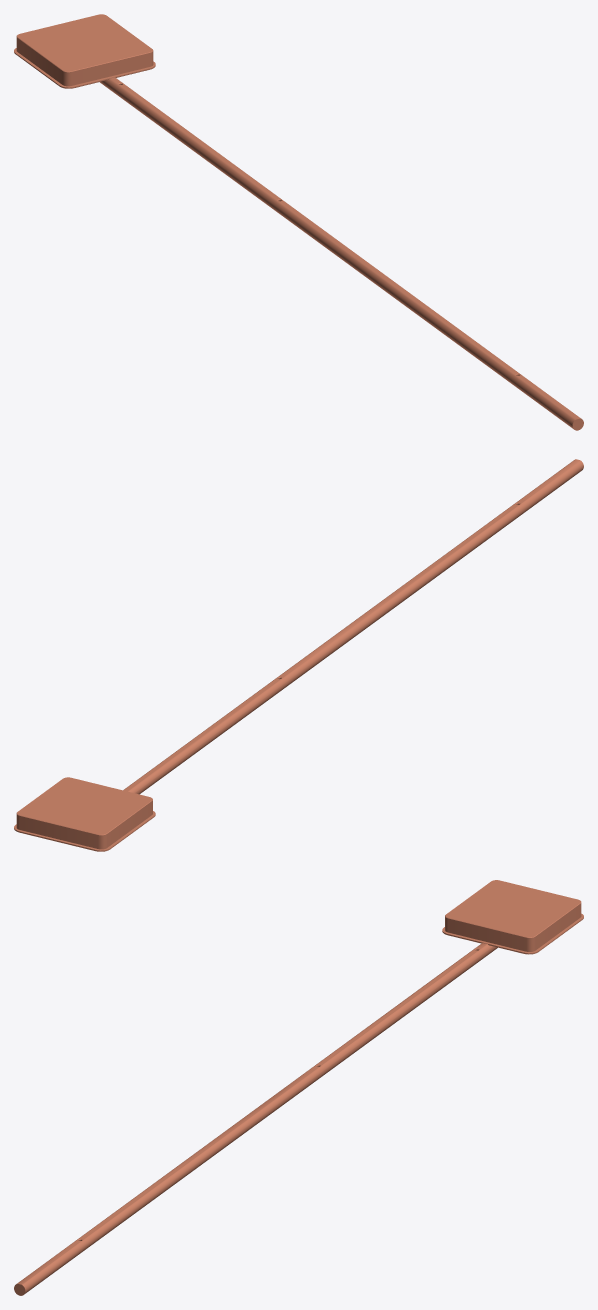
Rendered from matt r gold viora.glb.
3 renders of one model, top to bottom at view 1: azimuth 30°, elevation 25°; view 2: azimuth 150°, elevation 25°; view 3: azimuth 330°, elevation 25°, orthographic.
Parts seen in each view (by area): view 1: CB_VIORA_720MM_; view 2: CB_VIORA_720MM_; view 3: CB_VIORA_720MM_.
Boxes of the visible parts, x1,y1,x2,y2 form: CB_VIORA_720MM_: (14,14,583,430); CB_VIORA_720MM_: (14,459,583,851); CB_VIORA_720MM_: (14,880,583,1295).
Bounding box in the file's own units: 99.5 × 26.1 × 944.
